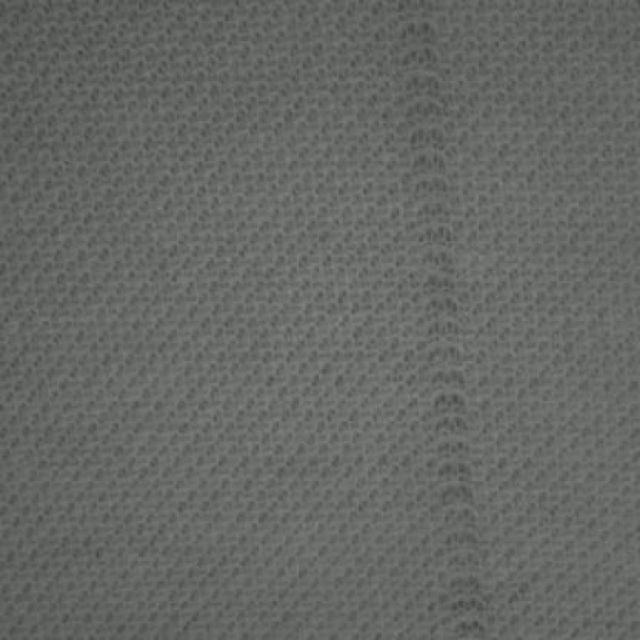Line: (407, 0, 489, 640)
